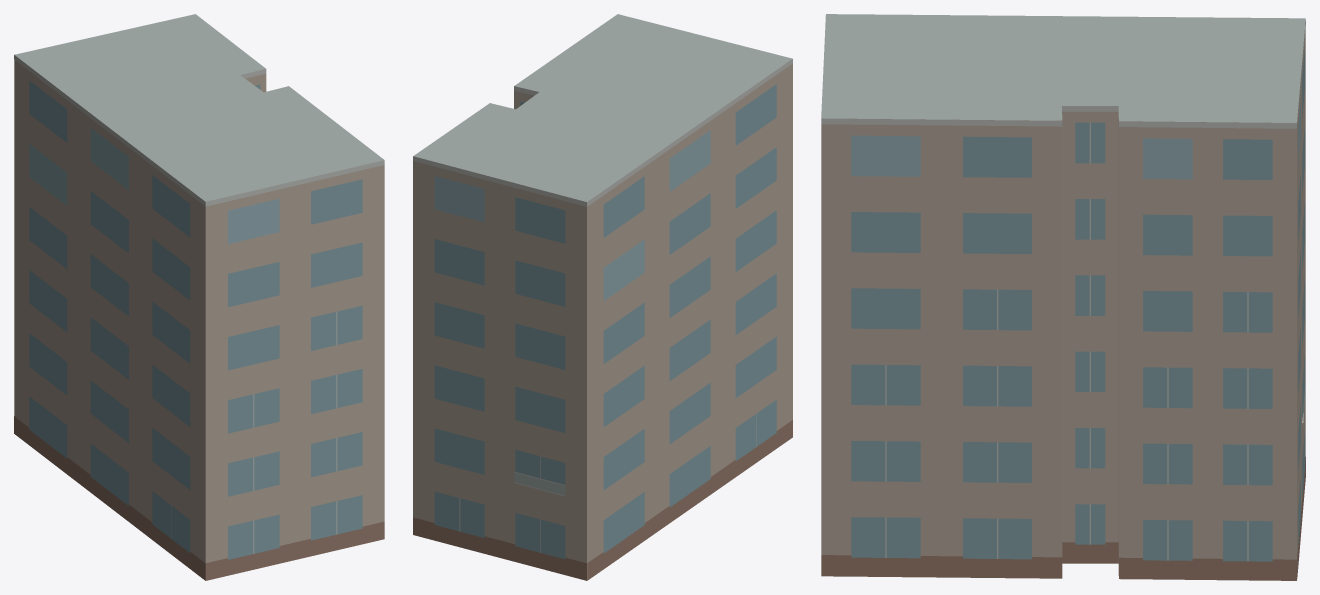
File: survey-upis-32859116.glb
The picture shows the model from 3 angles, left to right: view 1: azimuth 30°, elevation 25°; view 2: azimuth 150°, elevation 25°; view 3: azimuth 270°, elevation 25°; orthographic projection. The views are drawn at different scales.
Parts seen in each view (by area): view 1: survey-upis-32859116.tmp; view 2: survey-upis-32859116.tmp; view 3: survey-upis-32859116.tmp.
Part boxes in pixels (x1=…): survey-upis-32859116.tmp: x1=14, y1=14, x2=384, y2=580; survey-upis-32859116.tmp: x1=413, y1=14, x2=792, y2=580; survey-upis-32859116.tmp: x1=821, y1=14, x2=1305, y2=580.
Bounding box in the file's own units: 9.95 × 19.45 × 18.67.
